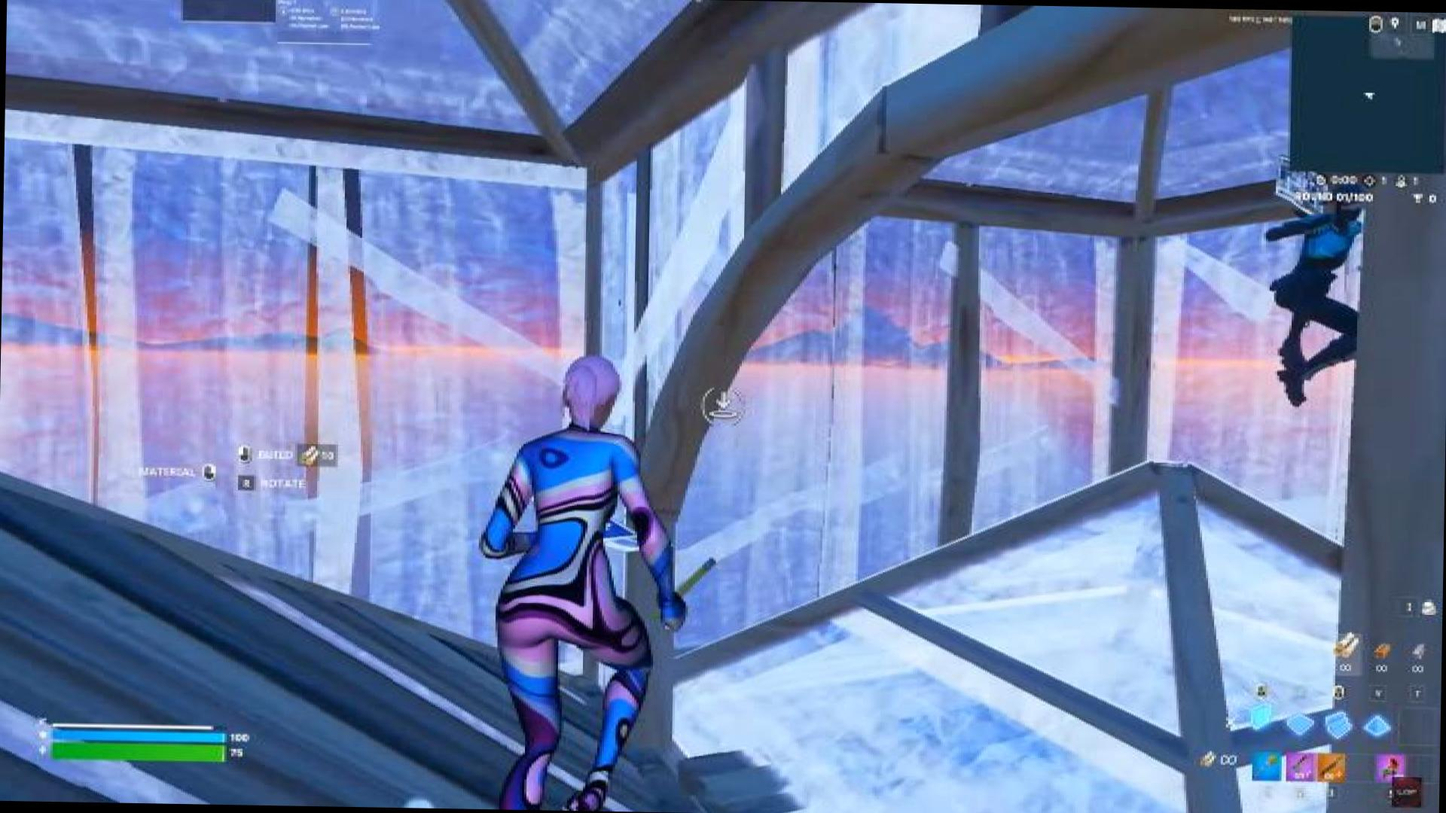player: (1258, 190, 1380, 399)
